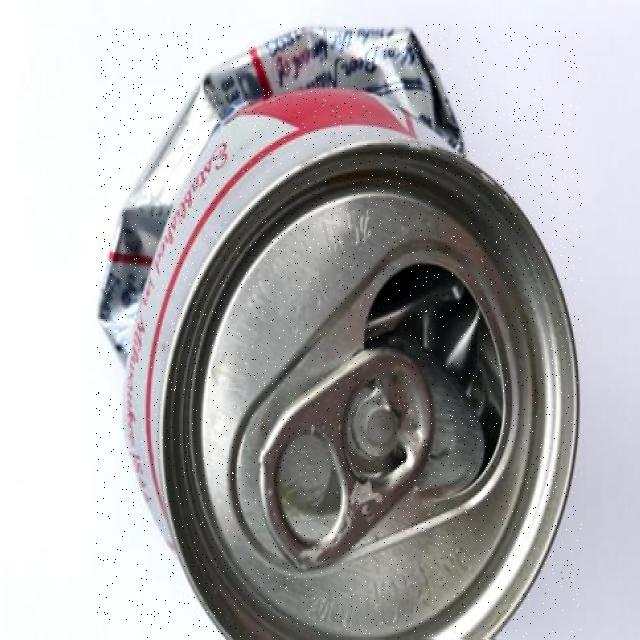metal: (96, 24, 582, 639)
